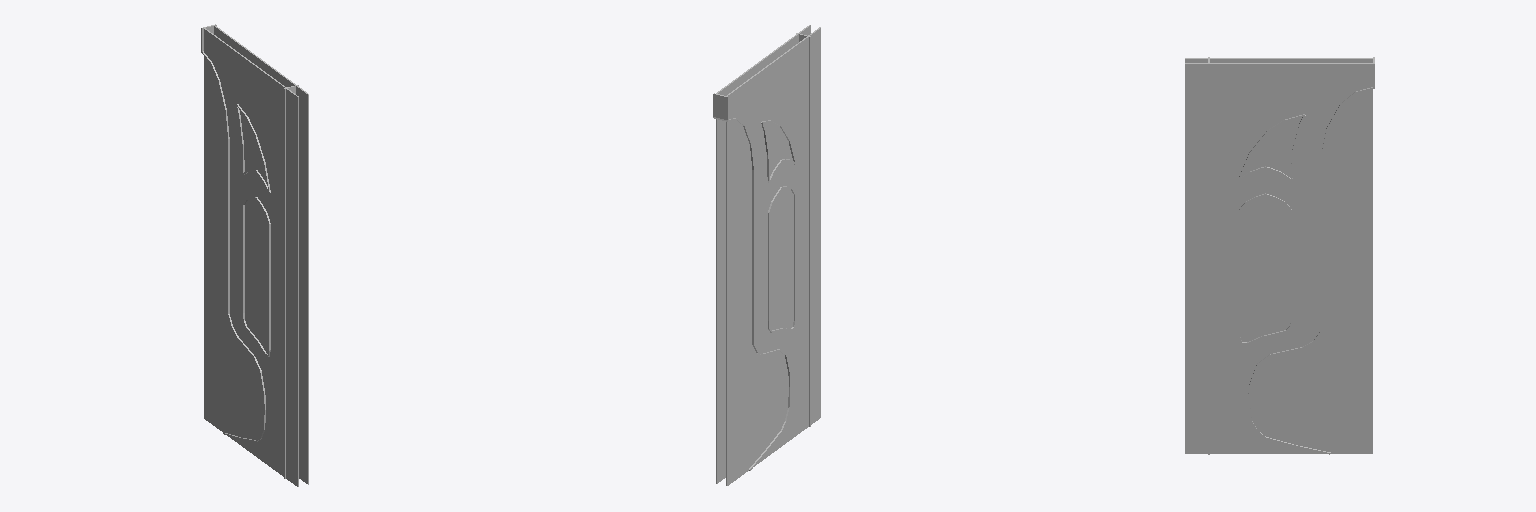
File: toyota_pillar.obj
The picture shows the model from 3 angles: view 1: azimuth 30°, elevation 25°; view 2: azimuth 150°, elevation 25°; view 3: azimuth 270°, elevation 25°; orthographic projection.
Visible parts, largest first — view 1: Pillar_Plane; view 2: Pillar_Plane; view 3: Pillar_Plane.
Part boxes in pixels (x1,y1,x2,y2): Pillar_Plane: (201,24,308,486); Pillar_Plane: (713,25,820,485); Pillar_Plane: (1185,57,1374,454).
Bounding box in the file's own units: 0.625 × 16 × 7.08.